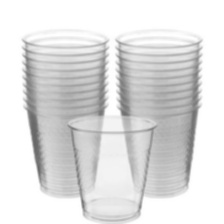glass: (96, 25, 207, 205), (22, 23, 111, 201), (65, 107, 160, 224)
